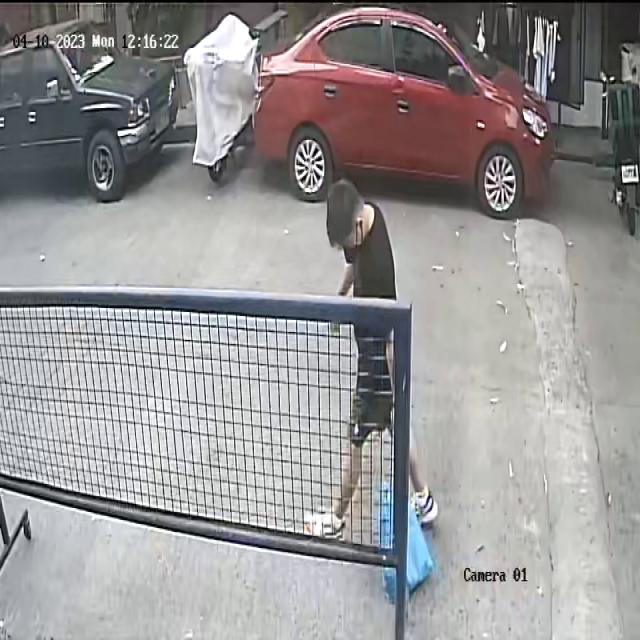garbage_dumping: (373, 468, 432, 602)
